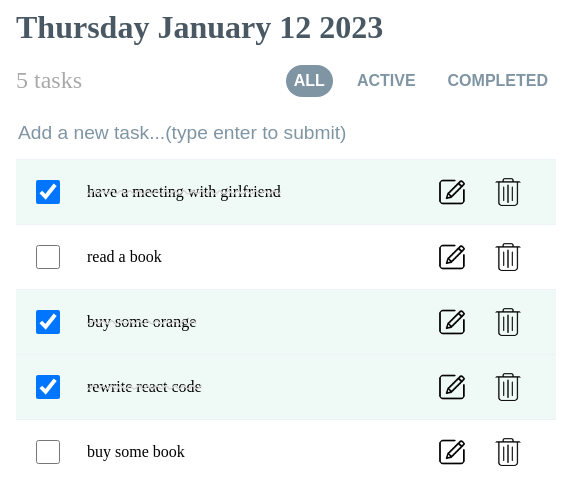
Test: Task Page › should delete task when click delete button
Click the picture with test id "task-item-delete" in the row of "have a meeting with girlfriend".
click(508, 192)  # box [484,168,532,216]
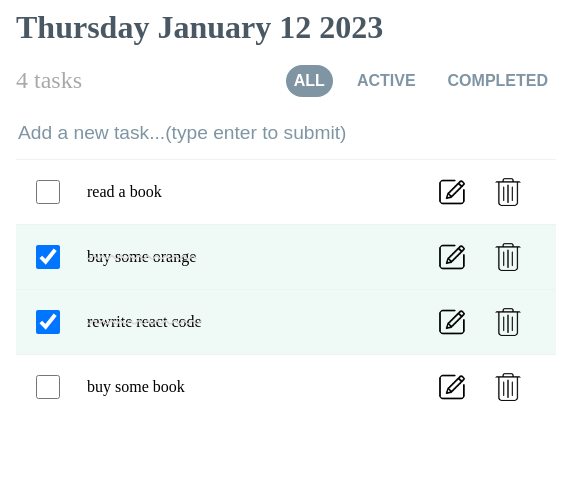
Expected: the number of list items with test id "task-item" is 4, [16,159,556,224]; [16,224,556,289]; [16,289,556,354]; [16,354,556,419]
Expected: the text "have a meeting with girlfriend" is gone
